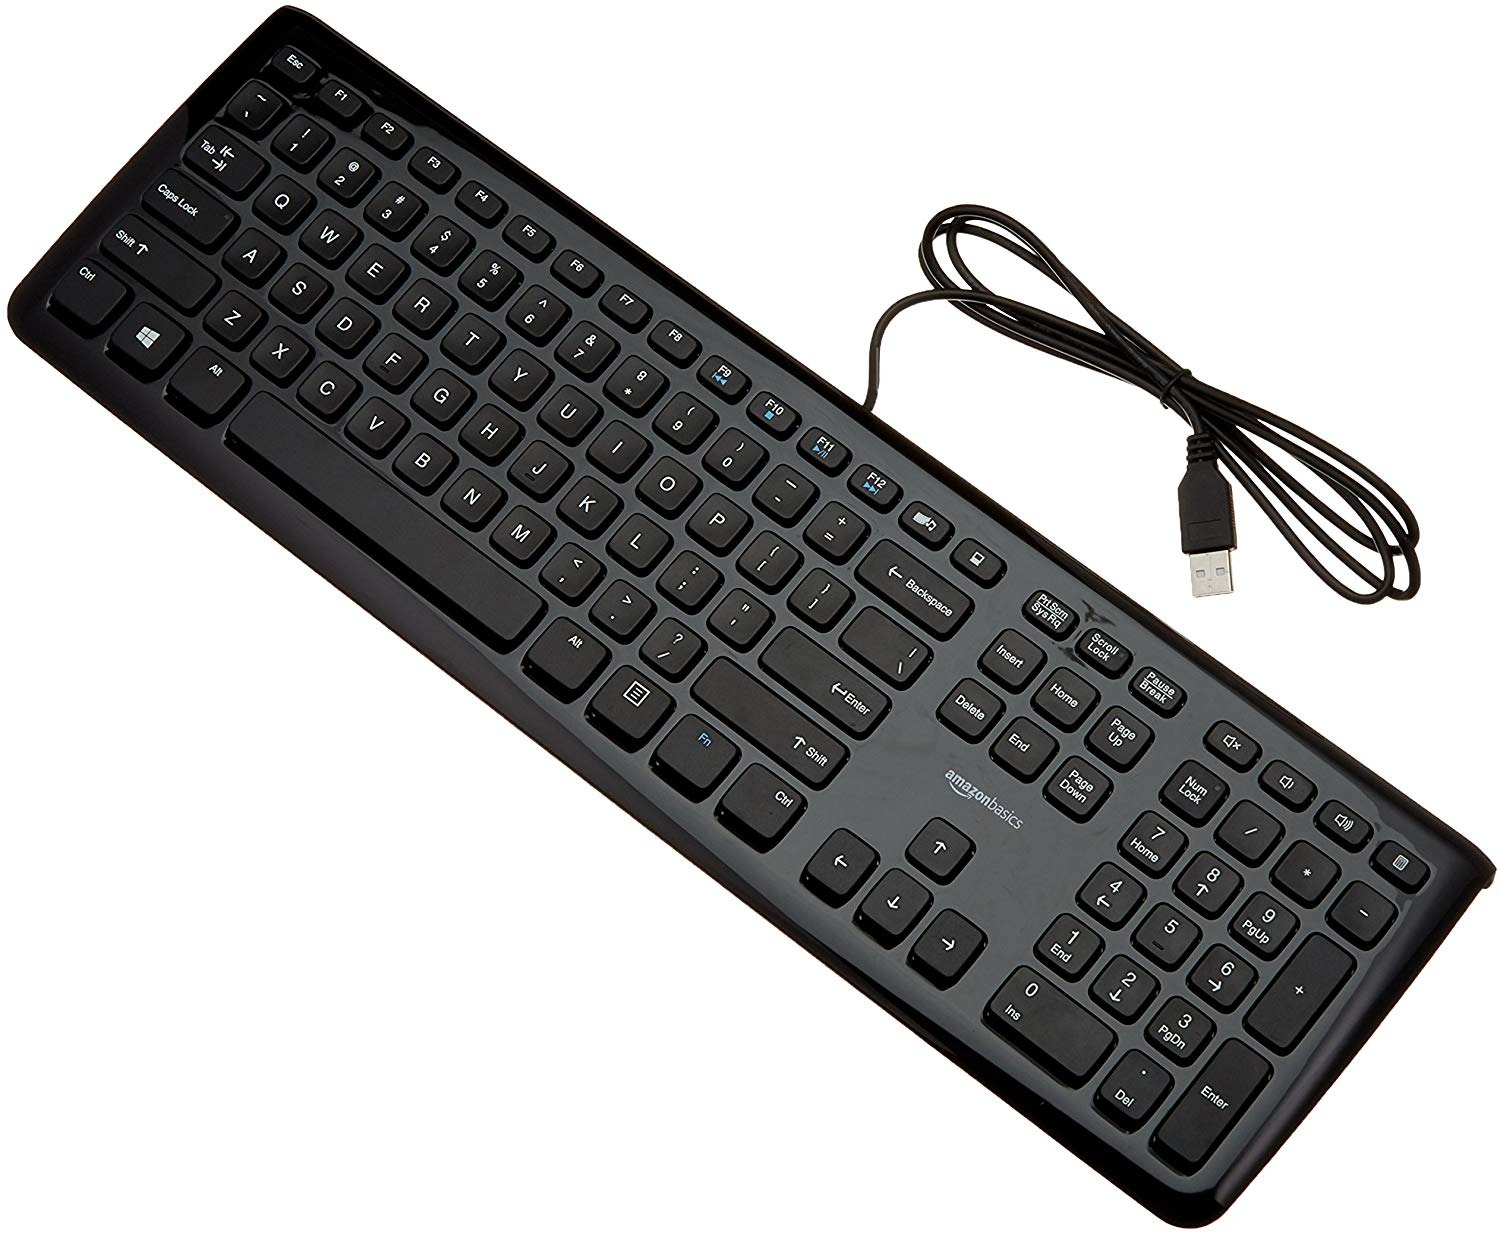keyboard: (0, 0, 1493, 1229)
